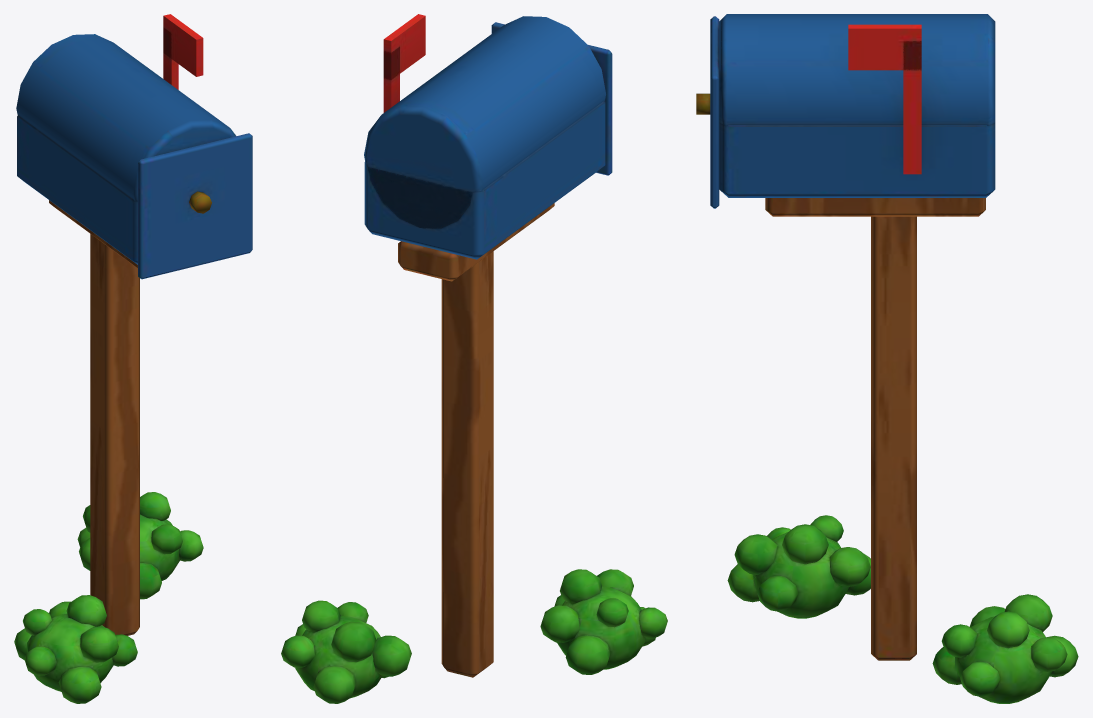
The model's file is mailbox.glb.
3 renders of one model, left to right at view 1: azimuth 30°, elevation 25°; view 2: azimuth 150°, elevation 25°; view 3: azimuth 270°, elevation 25°, orthographic. The views are drawn at different scales.
Visible parts, largest first — view 1: mailbox; view 2: mailbox; view 3: mailbox.
Boxes of the visible parts, x1,y1,x2,y2 form: mailbox: [14, 14, 252, 703]; mailbox: [281, 14, 667, 703]; mailbox: [696, 14, 1078, 703].
Size of the model in its own units: 0.371 by 0.8019 by 0.4155.
1 material, 1 textured.
